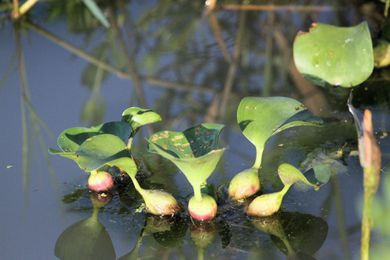water_hyacinth: (41, 10, 390, 235)
